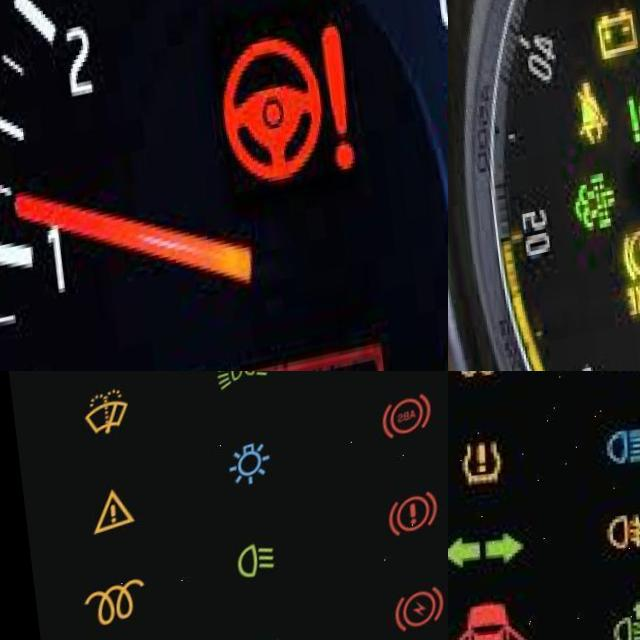Electronic Power Steering: (208, 34, 348, 207)
Seat Belt: (564, 90, 605, 164)
Washer Fluid: (78, 391, 126, 443)
